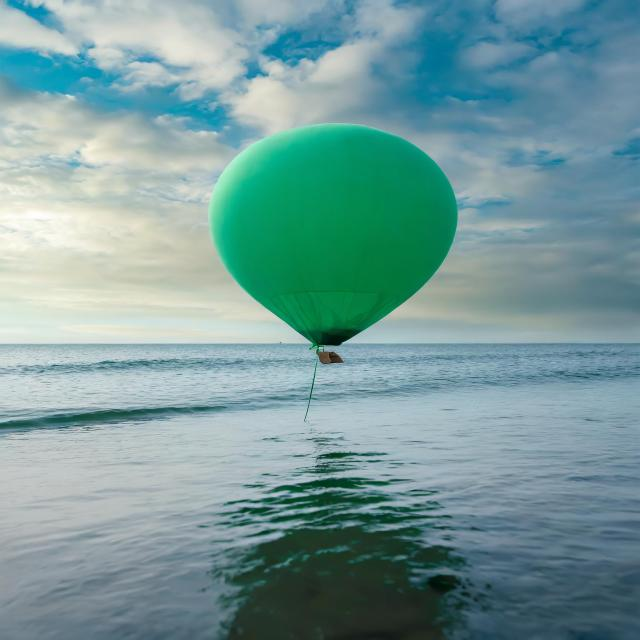green: (205, 123, 457, 361)
